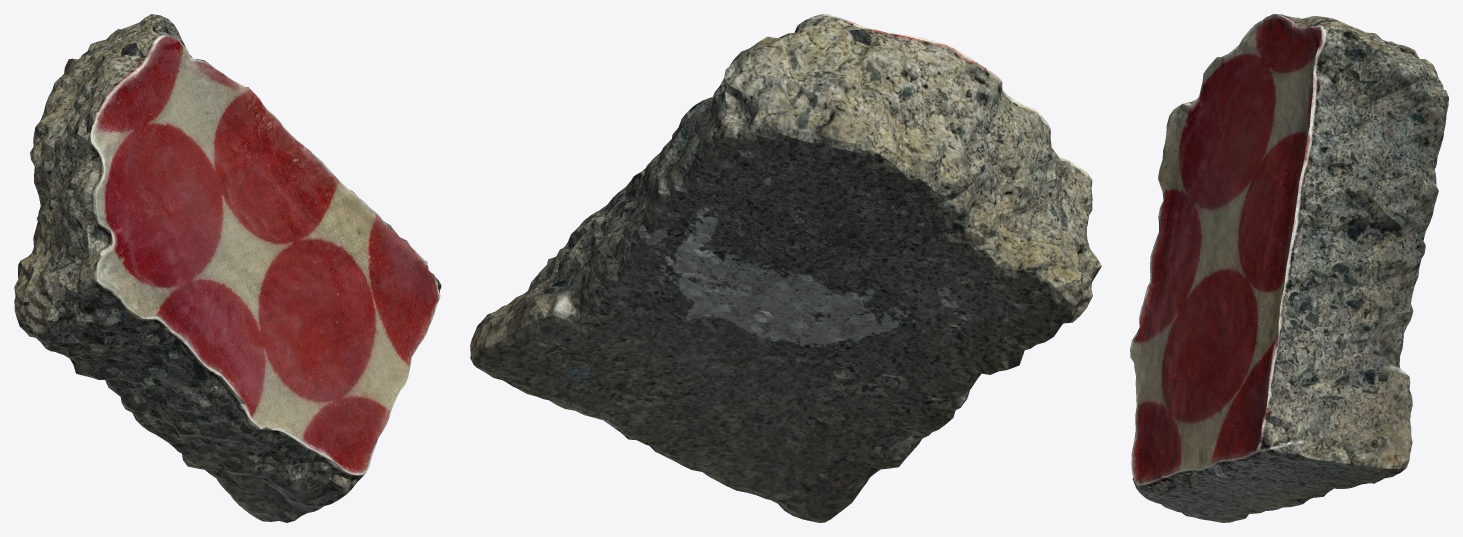
The picture shows the model from 3 angles, left to right: view 1: azimuth 30°, elevation 25°; view 2: azimuth 150°, elevation 25°; view 3: azimuth 270°, elevation 25°; orthographic projection. The views are drawn at different scales.
Bounding box in the file's own units: 0.7386 × 0.7413 × 0.4592.
Materials: 1 (1 with a texture image).
